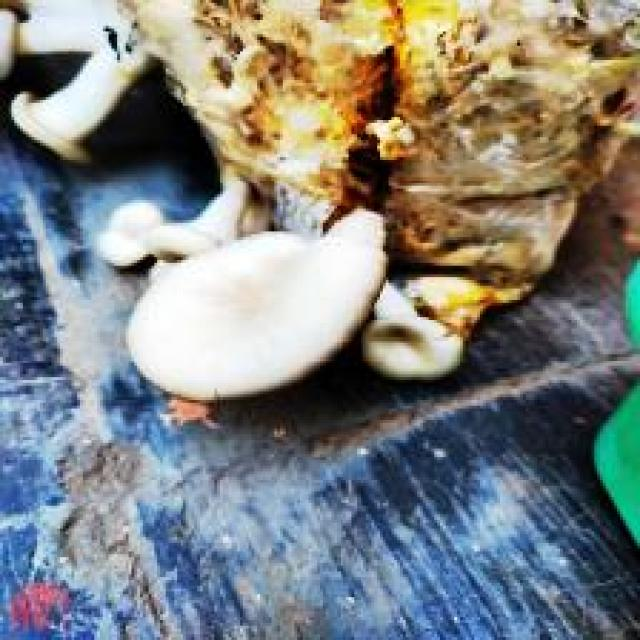chanterelle: (0, 0, 637, 400)
field-mushroom: (123, 203, 388, 400)
